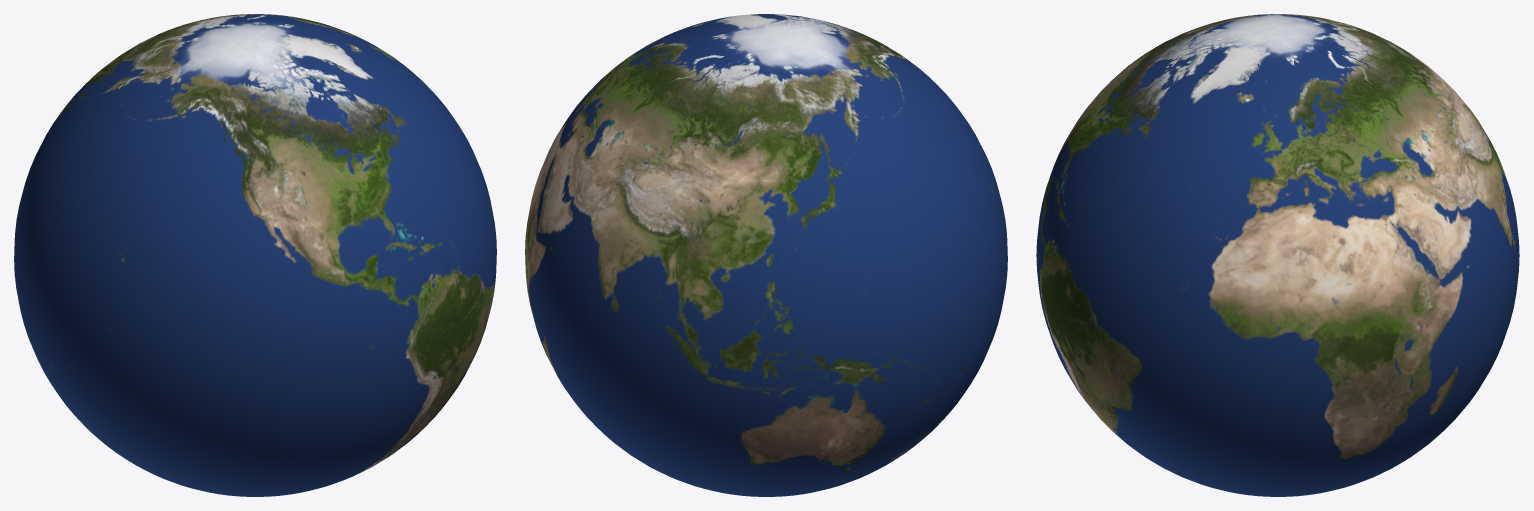
File: earth.glb
3 renders of one model, left to right at view 1: azimuth 30°, elevation 25°; view 2: azimuth 150°, elevation 25°; view 3: azimuth 270°, elevation 25°, orthographic.
Bounding box in the file's own units: 2 × 2 × 2.
Materials: 1 (1 with a texture image).
